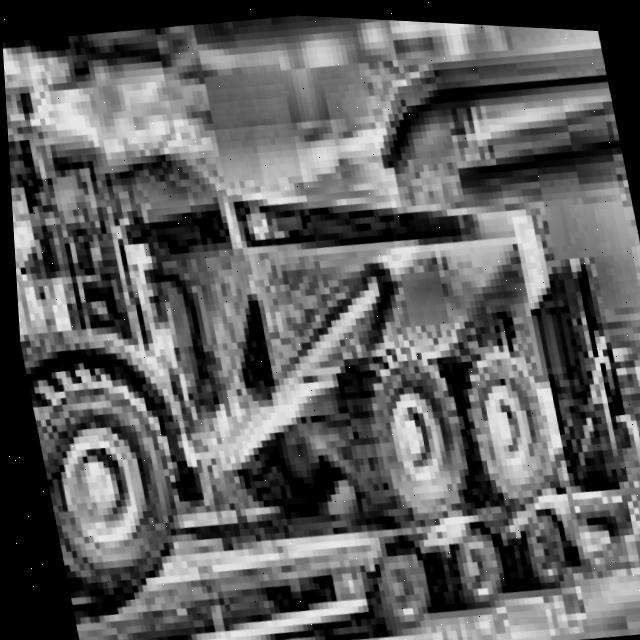dump_truck: (0, 0, 635, 628)
